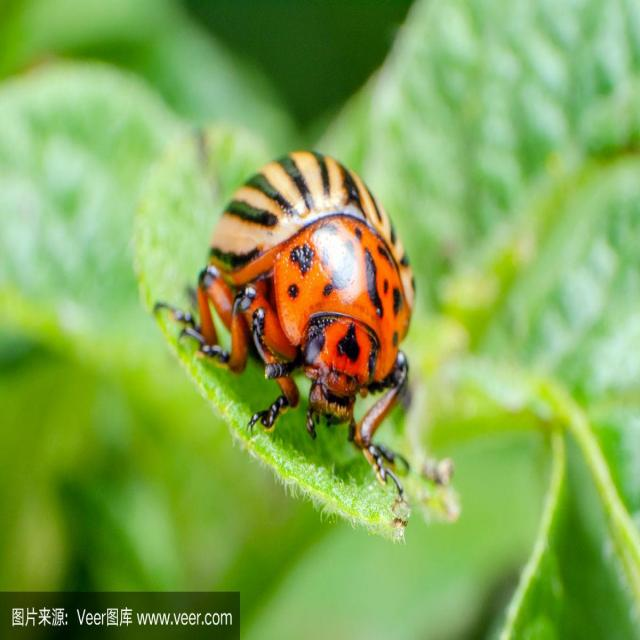ShuCaiHuaBanChong-Grown-: (163, 112, 432, 453)
